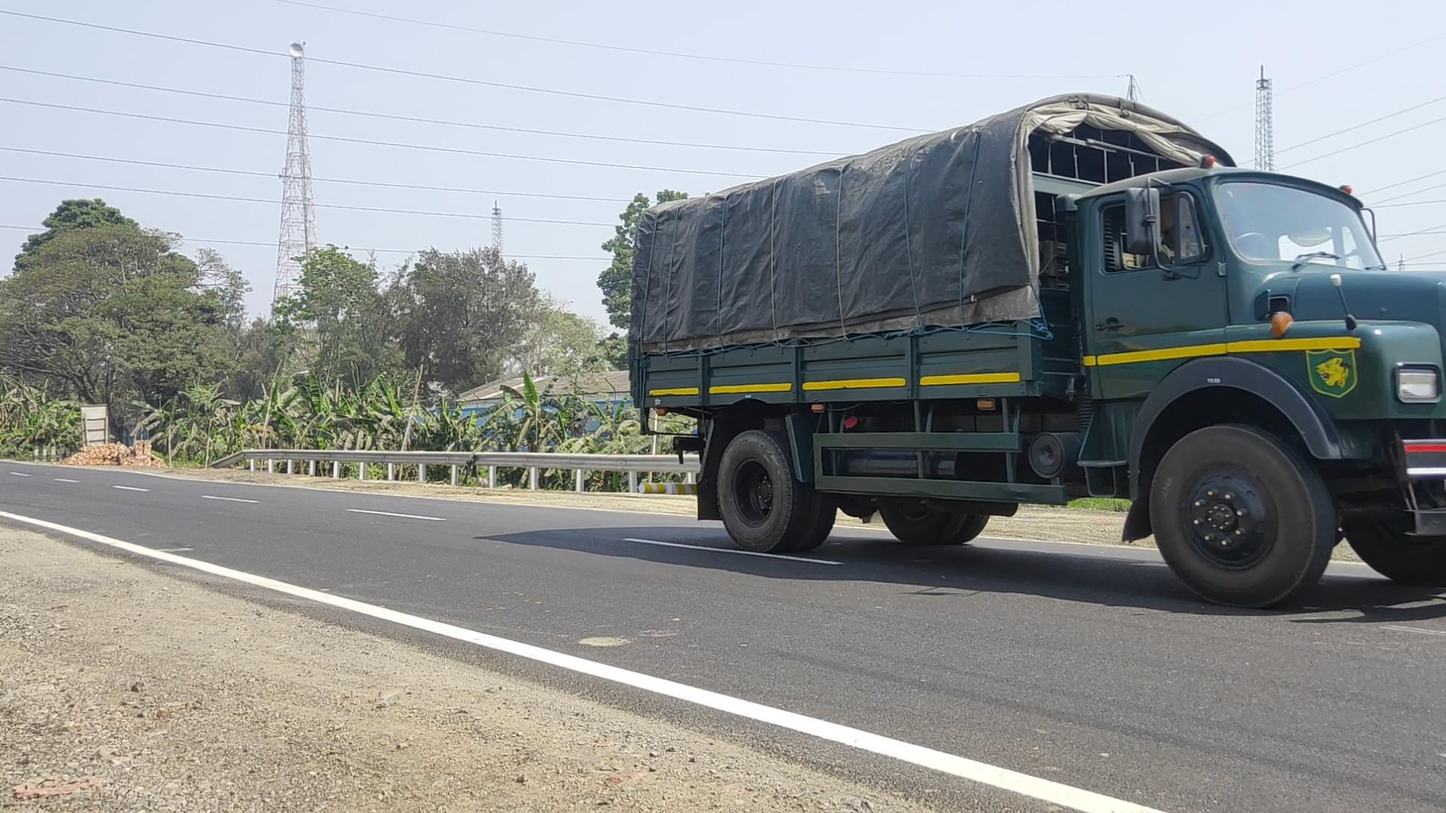truck: (627, 93, 1446, 610)
